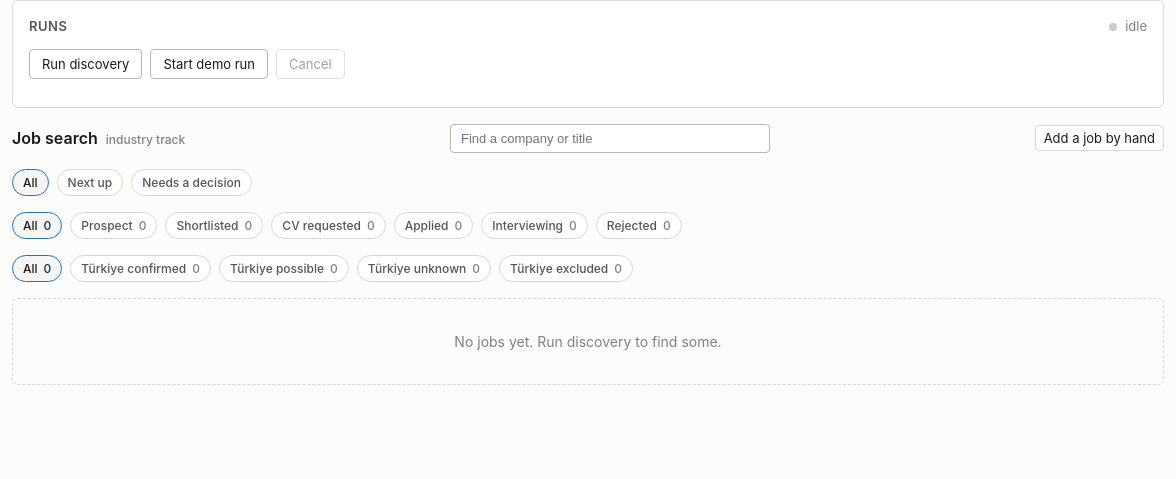
Test: a duplicate is reported in the domain's words and the form keeps its input
Click the button "Add a job by hand".
click(1099, 138)  # box [1035,125,1164,151]
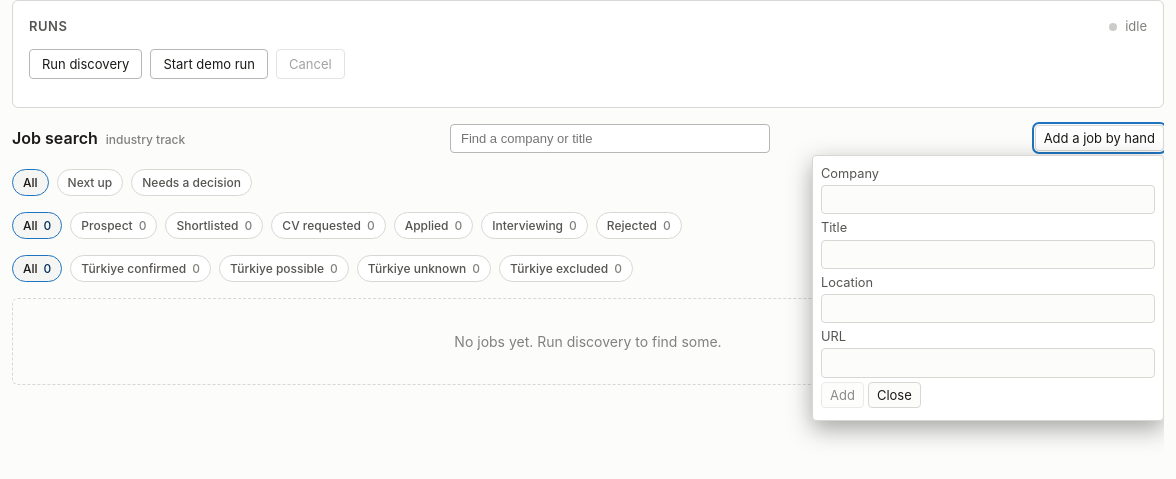
Type "Northwind" into the field labelled "Company".
click(988, 200); type("Northwind")  # box [821,185,1155,214]
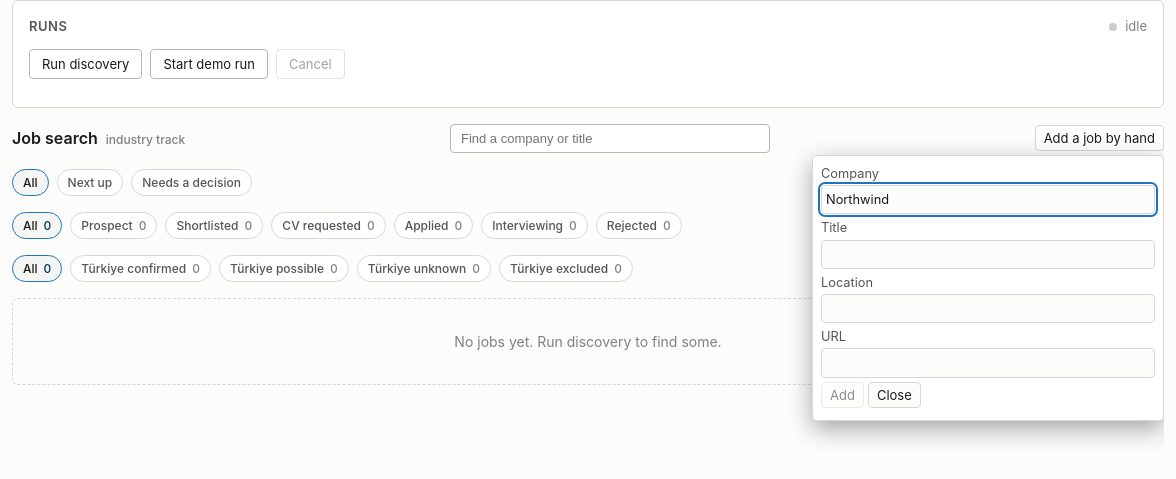
Type "Senior Frontend Engineer" into the field labelled "Title".
click(988, 254); type("Senior Frontend Engineer")  # box [821,240,1155,269]
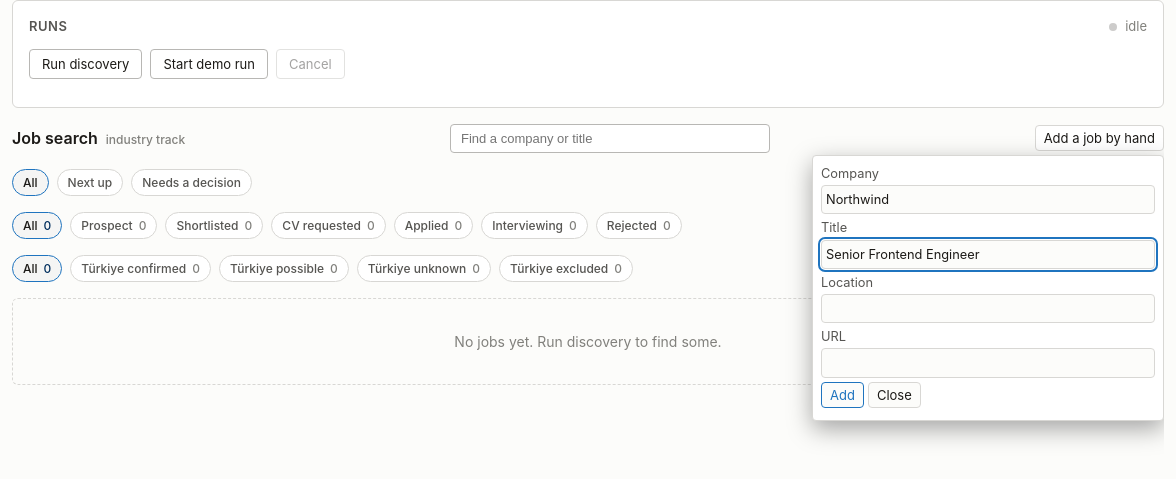
Click the button "Add".
click(842, 394)  # box [821,382,864,408]
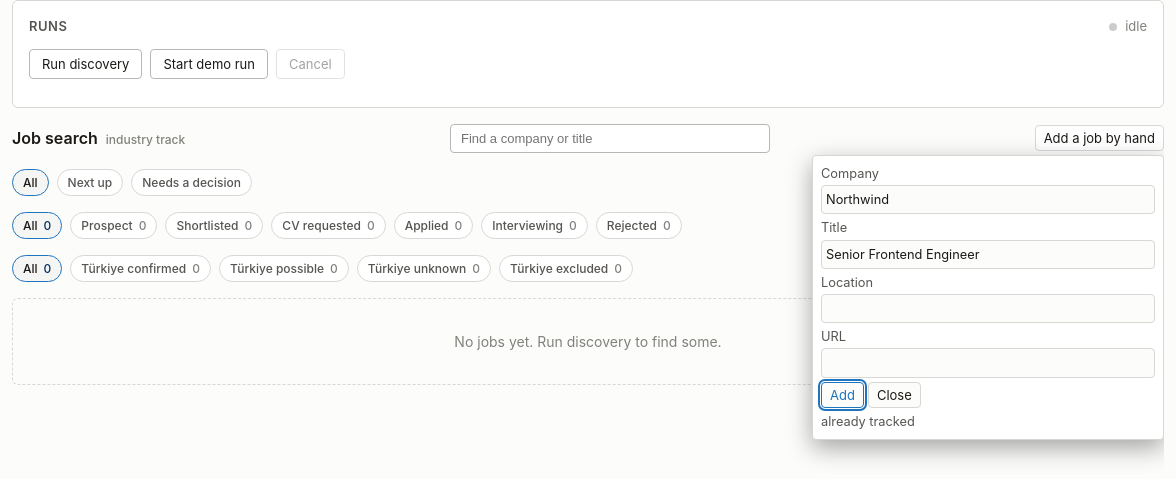
Expected: the text "already tracked" is shown, [821,414,915,428]
